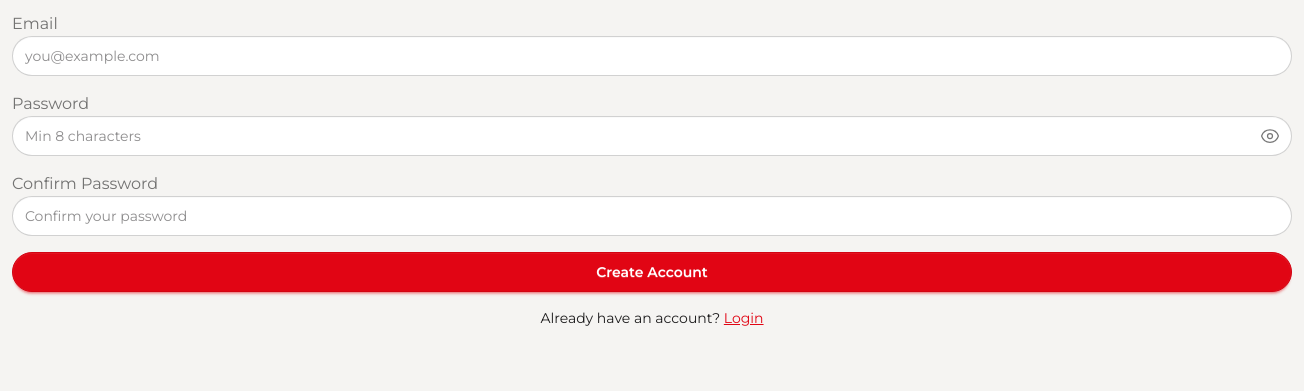
Scenario: RegisterForm › should show validation error for short password
Type "test@example.com" into the field labelled "Email".
click(652, 56); type("test@example.com")  # box [12,36,1292,76]
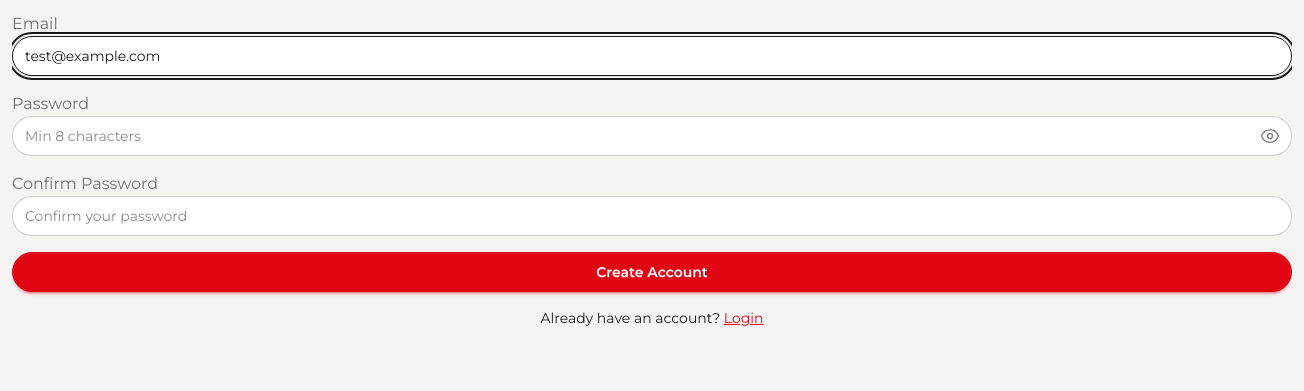
Type "short" into the password field labelled "Password".
click(652, 136); type("short")  # box [12,116,1292,156]
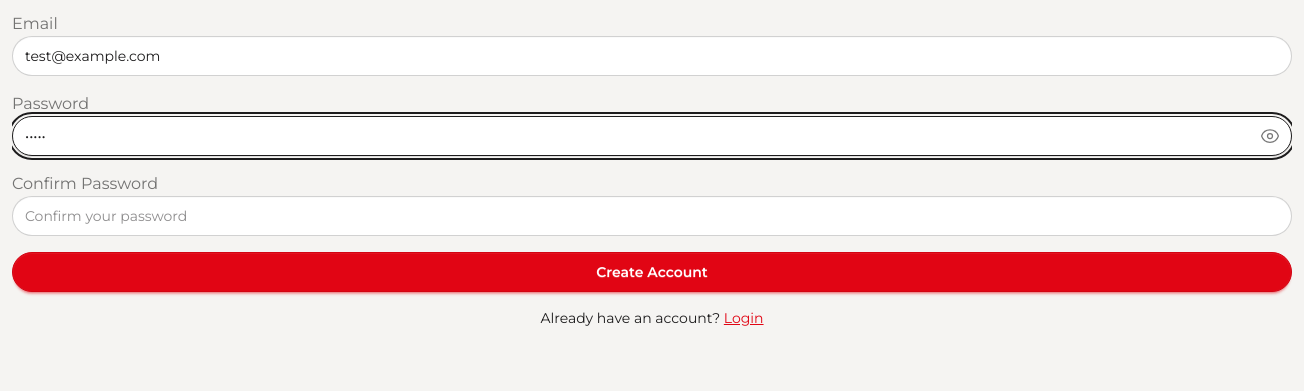
Click the button "Create Account".
click(652, 272)  # box [12,252,1292,292]
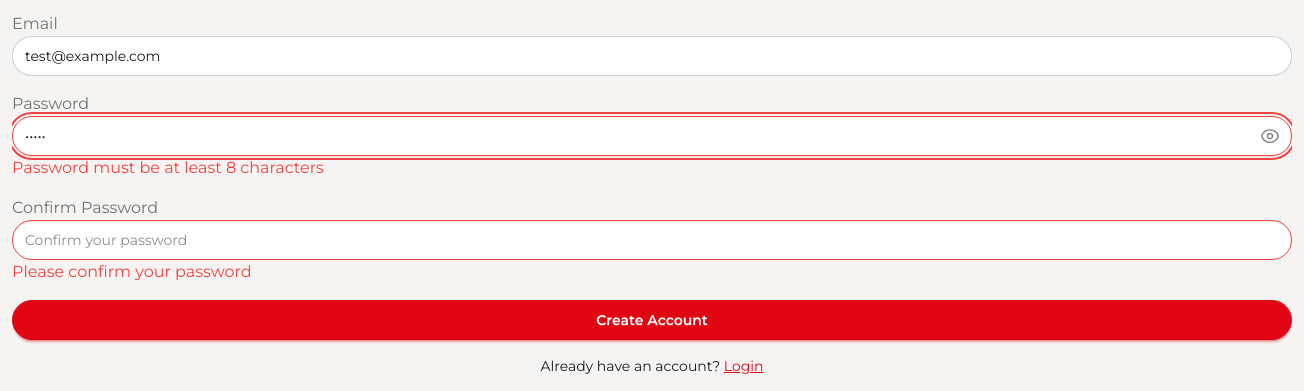
Expected: the text "Password must be at least 8 characters" is shown, [12,156,324,180]
